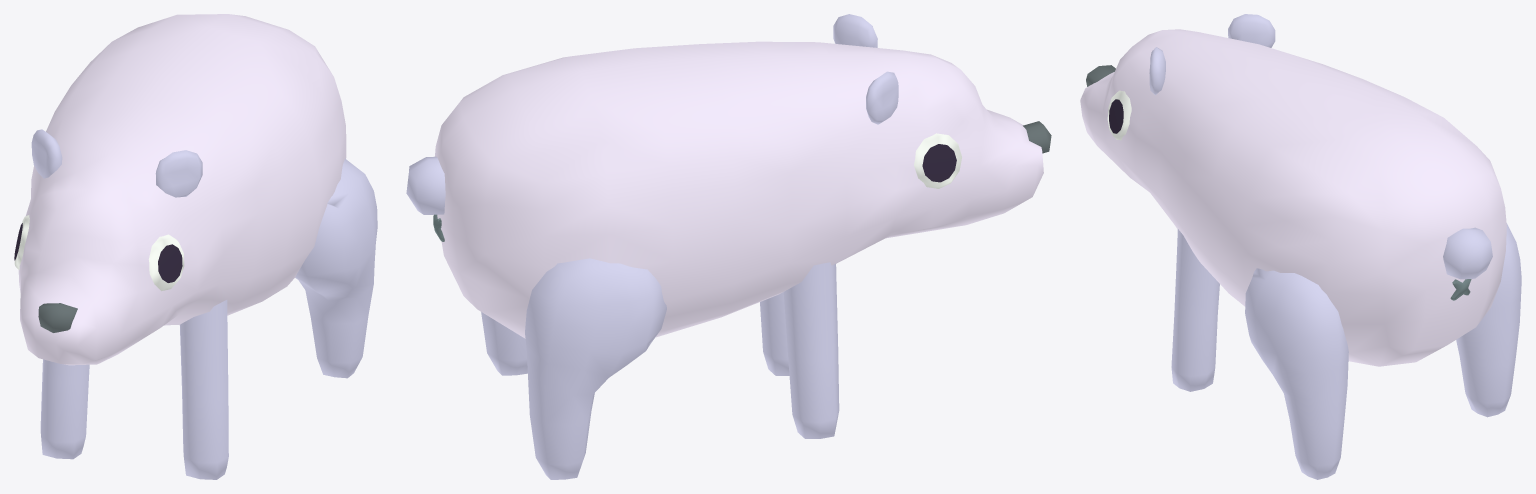
The model's file is polarbear.gltf.
The picture shows the model from 3 angles, left to right: view 1: azimuth 30°, elevation 25°; view 2: azimuth 150°, elevation 25°; view 3: azimuth 270°, elevation 25°; orthographic projection. The views are drawn at different scales.
Parts seen in each view (by area): view 1: huitugou_5168_01; view 2: huitugou_5168_01; view 3: huitugou_5168_01.
Part boxes in pixels (bbox=[...]): huitugou_5168_01: bbox=[14, 14, 377, 479]; huitugou_5168_01: bbox=[406, 14, 1051, 479]; huitugou_5168_01: bbox=[1080, 14, 1521, 479].
Bounding box in the file's own units: 0.6674 × 0.4934 × 0.6285.
1 material, 1 textured.
